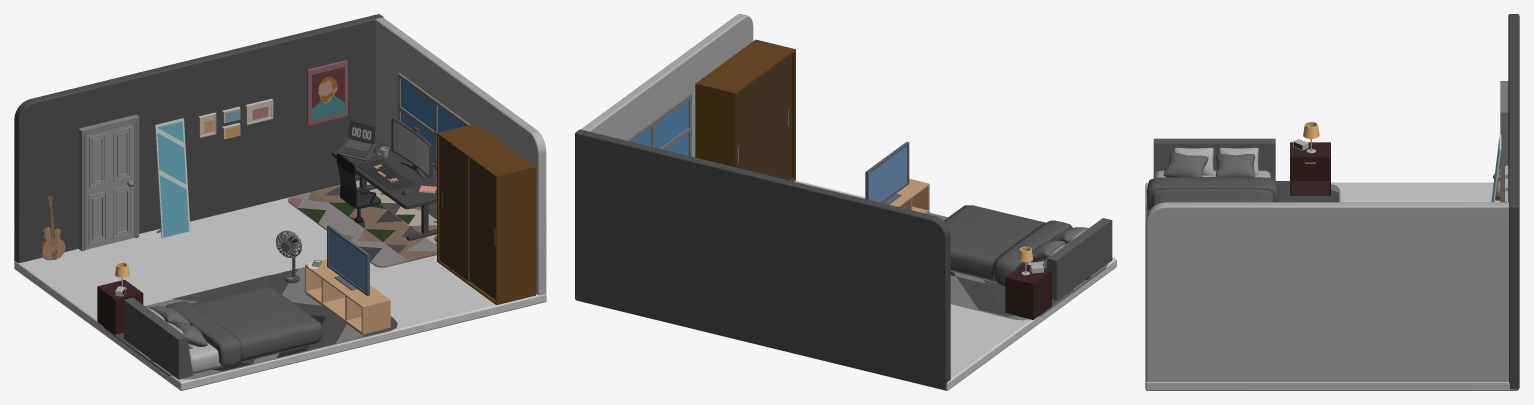
File: bedroom.glb
The picture shows the model from 3 angles, left to right: view 1: azimuth 30°, elevation 25°; view 2: azimuth 150°, elevation 25°; view 3: azimuth 270°, elevation 25°; orthographic projection. The views are drawn at different scales.
Visible parts, largest first — view 1: Wall 01, Floor, Wall 02, Cube.001, Cube 64, door, Cube 4.002, Cube 3, Cube 65, mirror, Merged Geometry.006, frame.001 (+26 smaller); view 2: Wall 01, Wall 02, Cube.001, Cube 64, Floor, Cube 3, Cube 65, Cube 4.002, Merged Geometry.001, Cube 19.001, Cube 2, Rectangle 12.001 (+3 smaller); view 3: Wall 02, Floor, Wall 01, Cube 64, Cube 65, Merged Geometry.001, frame.001, Cube 70, Cube 69, Merged Geometry 11, Cube 68, Cube 67.
Boxes of the visible parts, x1,y1,x2,y2 form: Wall 01: (14,14,383,262); Floor: (14,180,546,390); Wall 02: (375,17,546,295); Cube.001: (437,123,535,305); Cube 64: (166,286,322,367); door: (86,123,134,249); Cube 4.002: (439,136,469,281); Cube 3: (469,159,495,299); Cube 65: (124,297,192,379); mirror: (157,121,188,237); Merged Geometry.006: (331,139,436,240); frame.001: (78,114,139,251); Wall 01: (575,129,950,390); Wall 02: (581,14,753,157); Cube.001: (695,39,795,181); Cube 64: (944,205,1072,286); Floor: (576,180,1116,390); Cube 3: (764,54,791,180); Cube 65: (1046,218,1112,300); Cube 4.002: (736,74,764,173); Merged Geometry.001: (1005,263,1051,319); Cube 19.001: (632,100,688,155); Cube 2: (869,146,907,202); Rectangle 12.001: (927,212,1108,320); Wall 02: (1146,202,1508,381); Floor: (1145,182,1517,390); Wall 01: (1508,14,1519,389); Cube 64: (1147,177,1278,210); Cube 65: (1153,138,1275,179); Merged Geometry.001: (1290,142,1330,195); frame.001: (1500,81,1508,202); Cube 70: (1163,152,1208,177); Cube 69: (1215,154,1255,177); Merged Geometry 11: (1276,181,1338,202); Cube 68: (1174,147,1213,175); Cube 67: (1219,147,1258,175).
Bounding box in the file's own units: 9.28 × 4.02 × 7.35.
